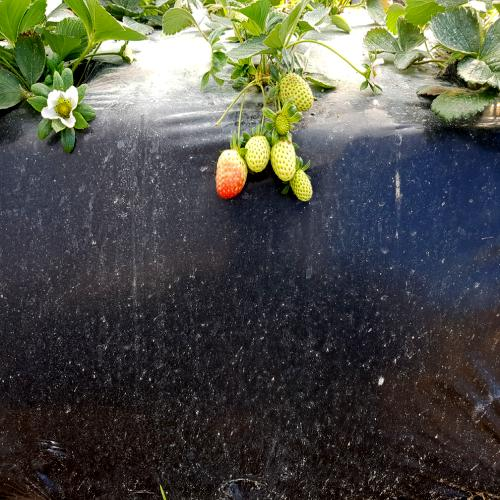unripe: (268, 121, 298, 193), (244, 129, 272, 176)
